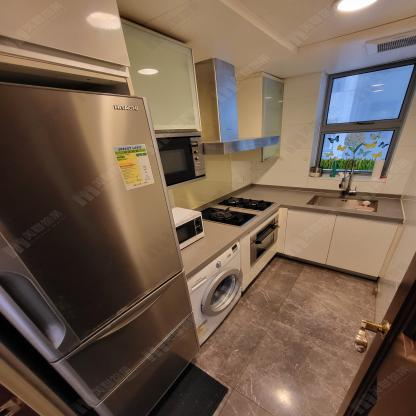Cupboard: (262, 72, 285, 137)
Exhaust Hood: (202, 135, 281, 155)
Faucet: (337, 156, 358, 196)
Fridge: (0, 83, 200, 416)
Microwave: (155, 131, 208, 191), (171, 206, 206, 251)
Oven: (250, 214, 278, 270)
Sink: (292, 191, 388, 217)
Stove: (200, 192, 288, 231)
Washing Machine: (185, 240, 242, 348)
